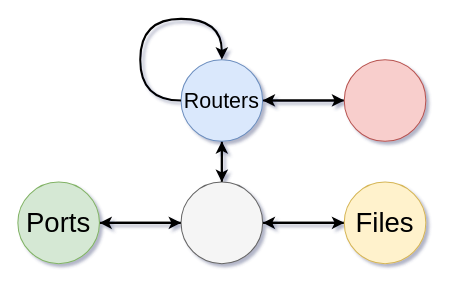
Some shapes in this 450 by 288 pixel diagram are drawn without their labels. Each missing label, with the centre of its shape:
"Hosts" goes at (x=221, y=222).
"Internet" goes at (x=384, y=100).
